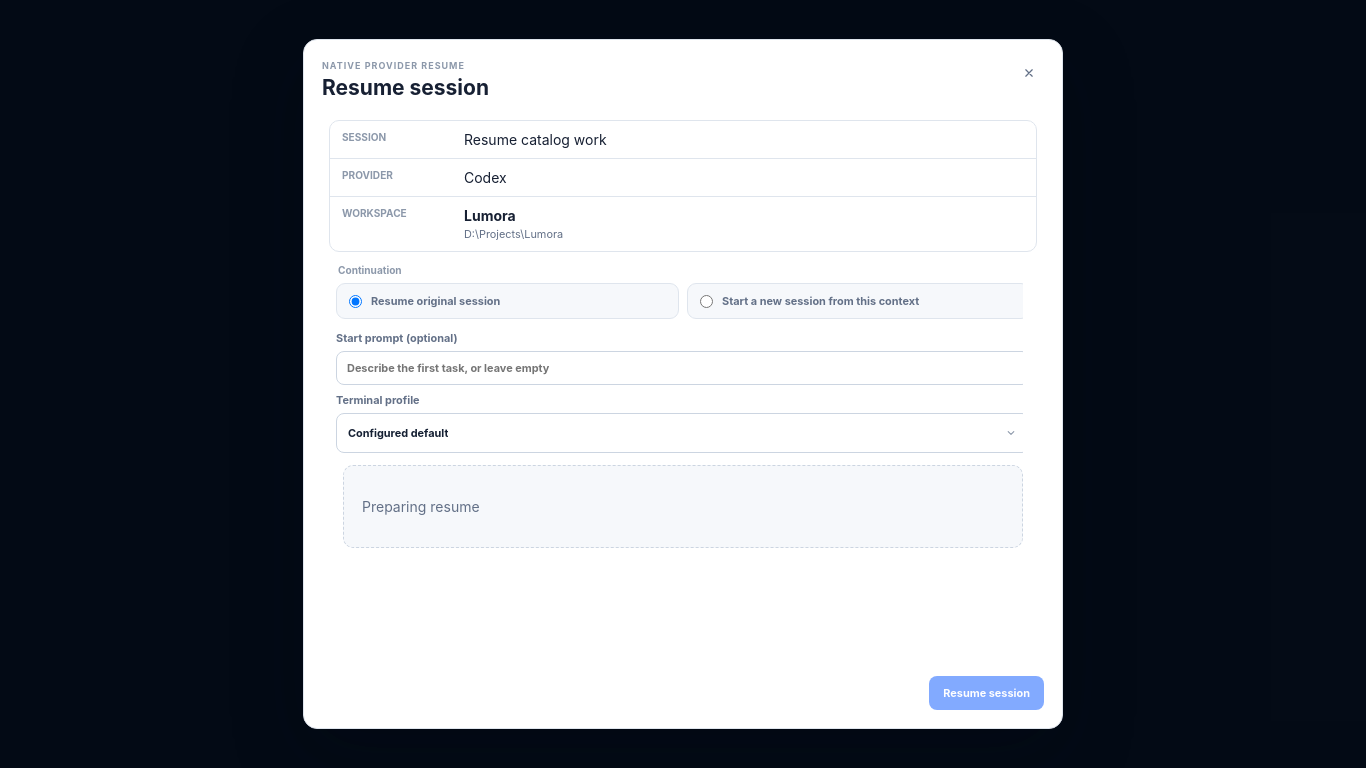
Test: ResumeSessionDialog › prepares promptless and prompted native forks in a stable dialog
Expected: the element with class "dialog-body" is shown, [314,120,1052,664]
Click the radio button labelled "Start a new session from this context" at [706, 301], box [700,294,713,308]
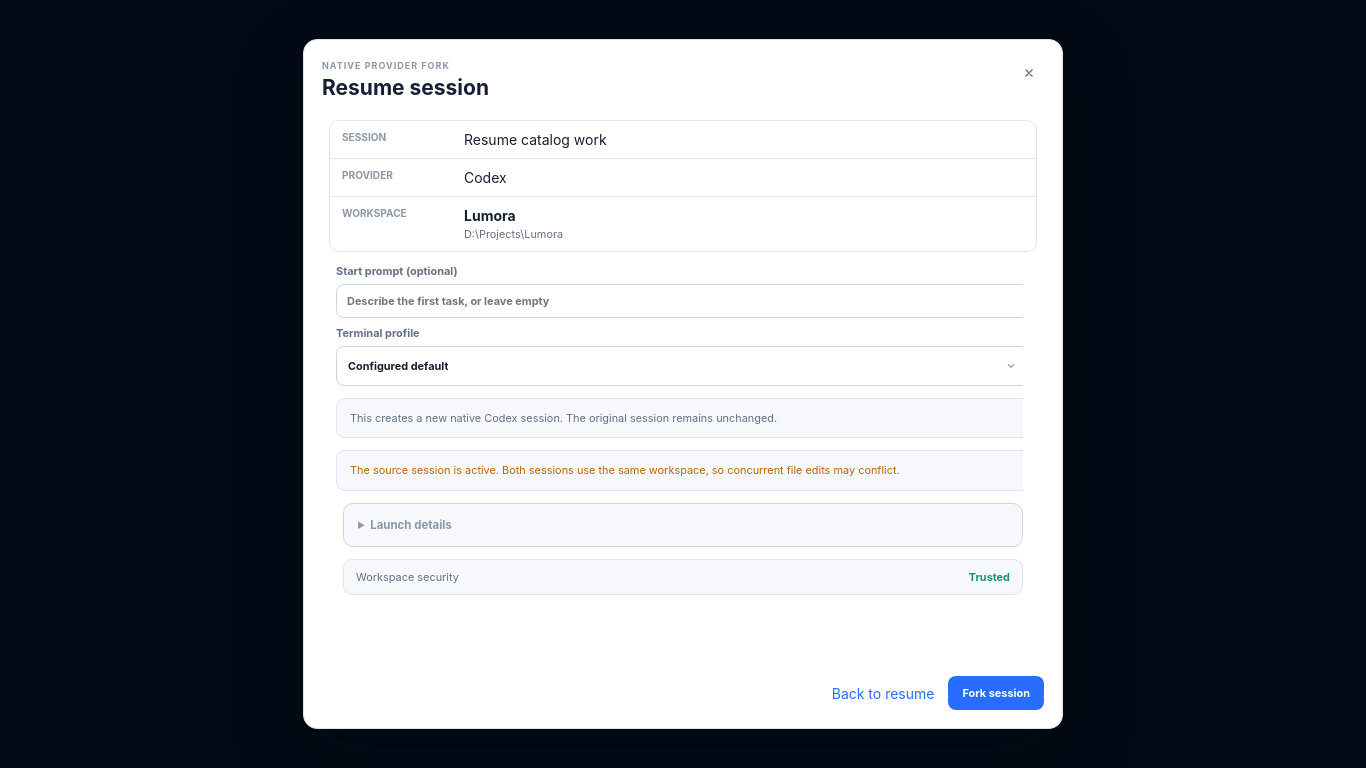
Expected: the element named "New session configuration" is shown, [321,264,1045,664]
Expected: the button "Back to resume" is shown, [828,676,938,710]
Expected: the button "Fork session" is enabled, [948,676,1044,710]
Type "Fix the failing tests." into the field labelled "Start prompt (optional)" at [683, 301], box [336,284,1030,318]
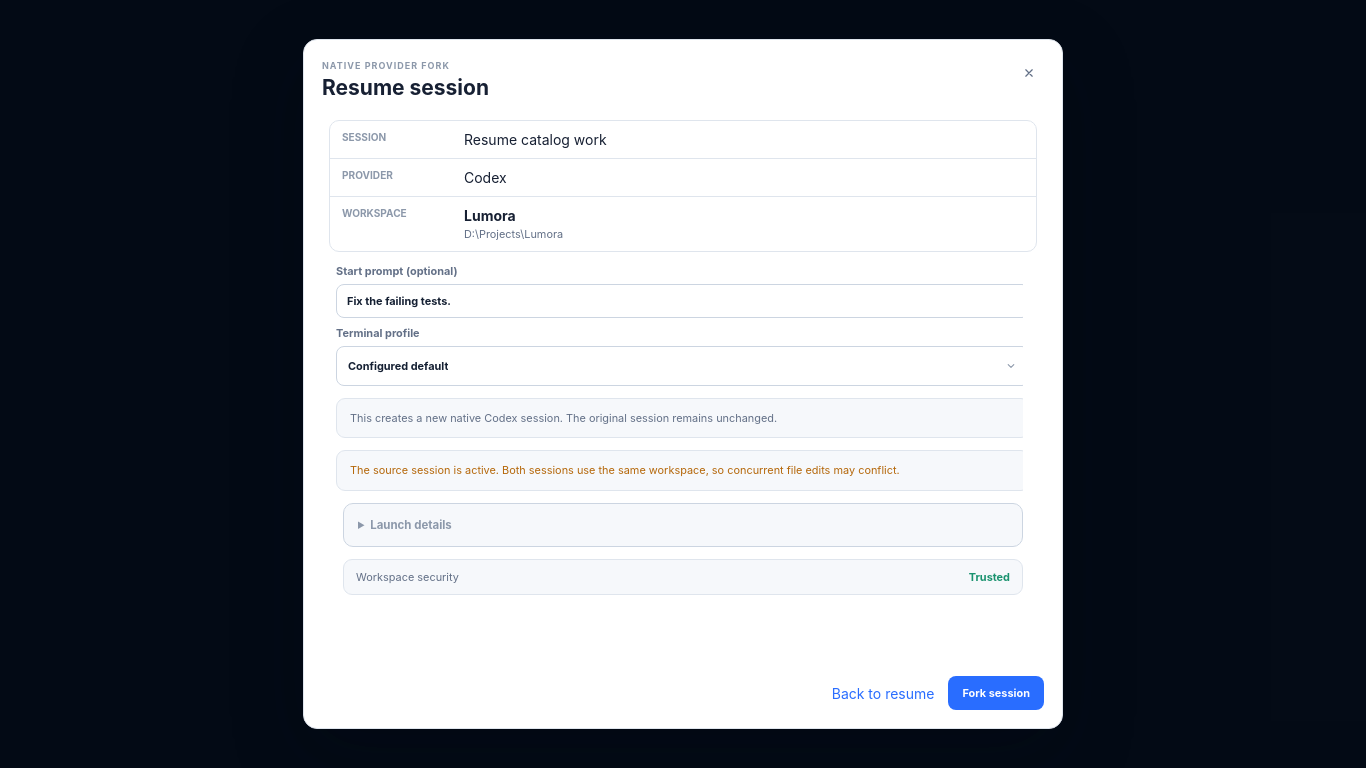
Expected: the button "Fork session" is enabled, [948,676,1044,710]
Click the button "Back to resume" at [883, 693], box [828,676,938,710]
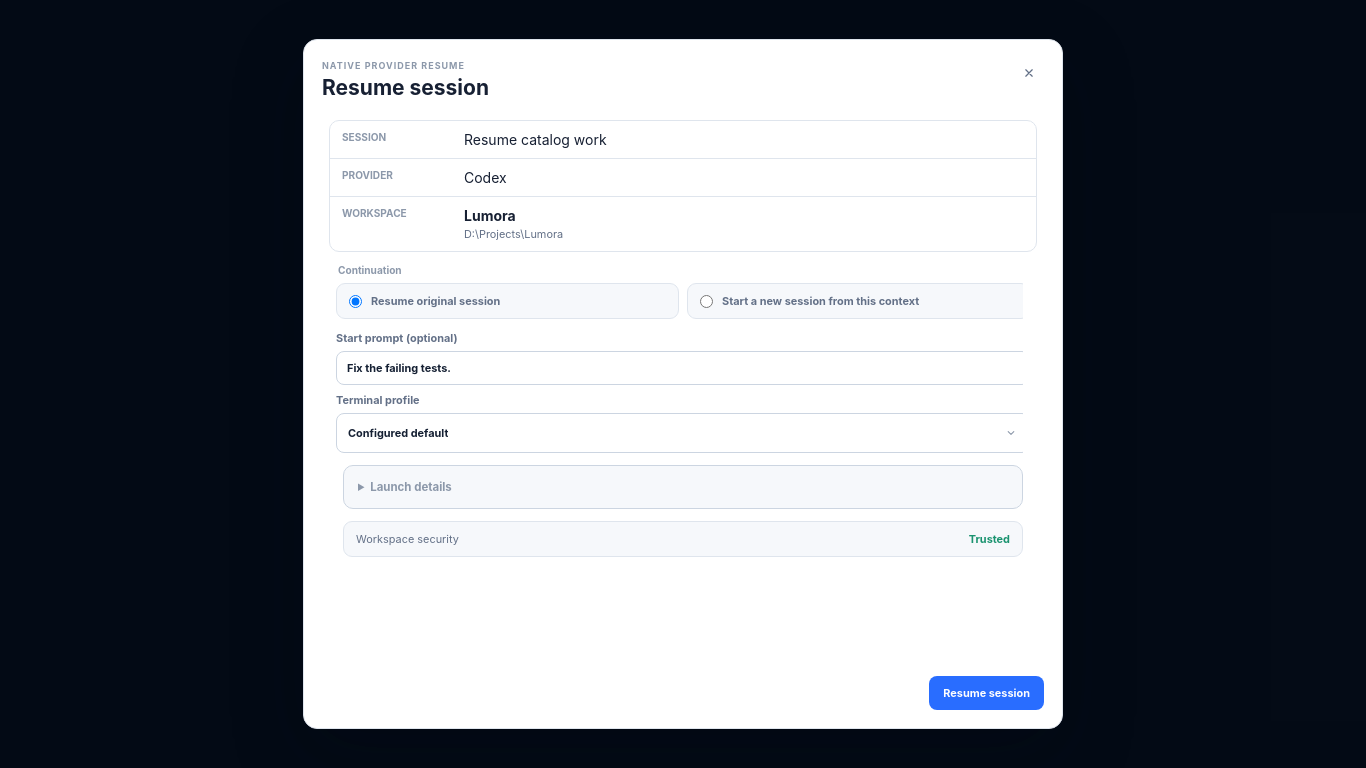
Expected: the element named "Session continuation" is shown, [321,264,1045,664]
